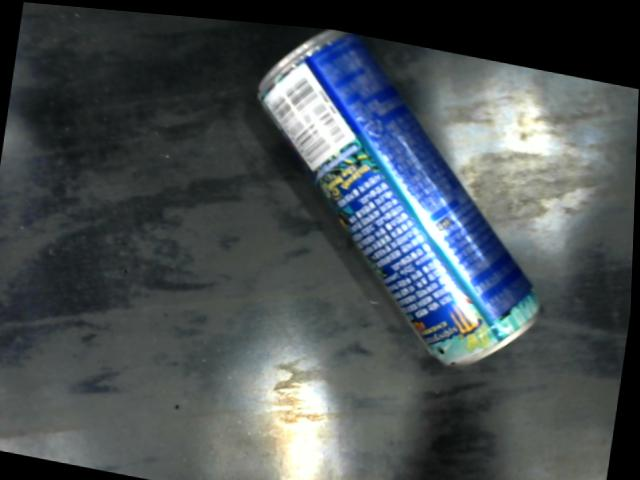can: (254, 23, 550, 363)
